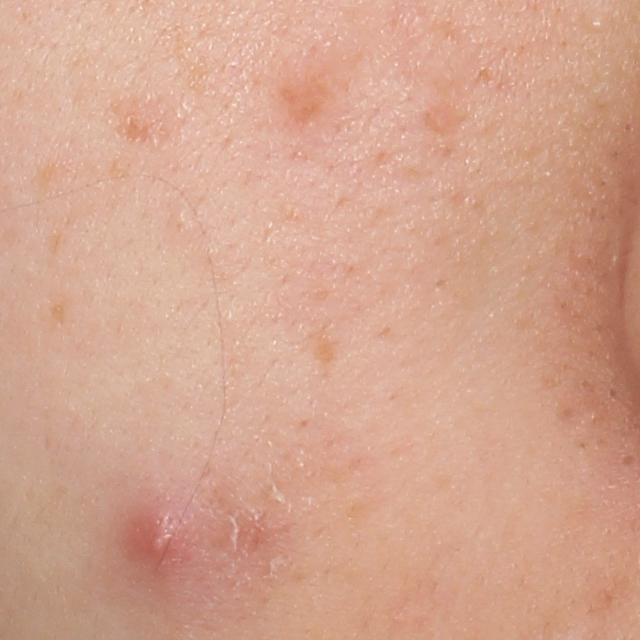comedo: (583, 13, 610, 33), (171, 210, 191, 229), (619, 454, 636, 468)
